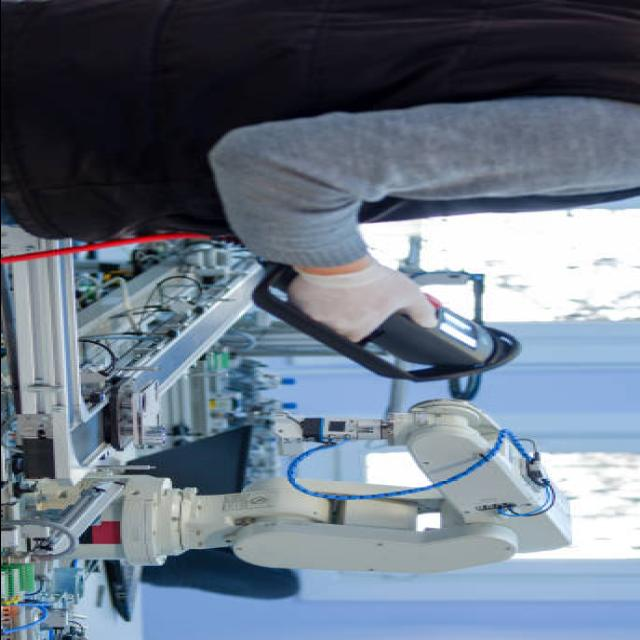Robotic-arm: (69, 399, 578, 581)
